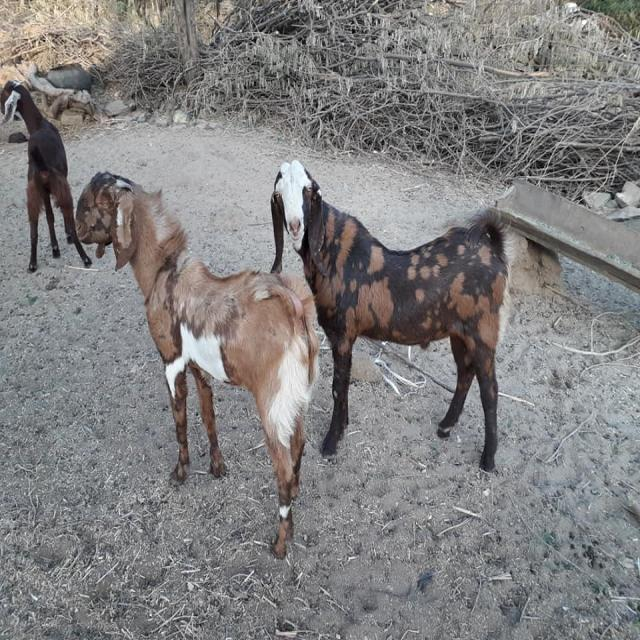Goat: (73, 169, 320, 559), (270, 157, 514, 474), (0, 77, 92, 273)
